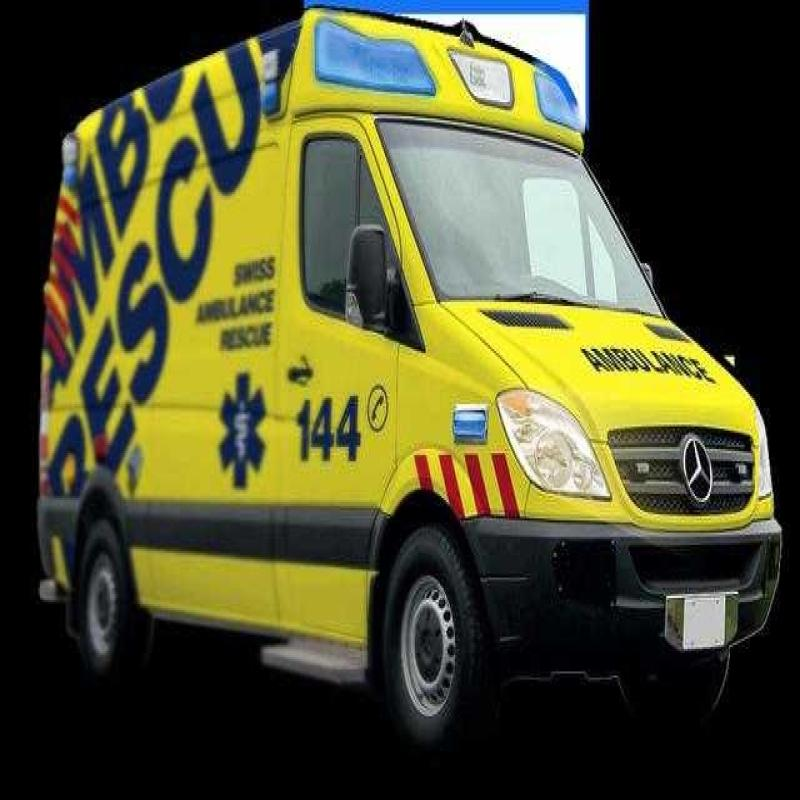AmbulanceSiren: (311, 12, 576, 132)
